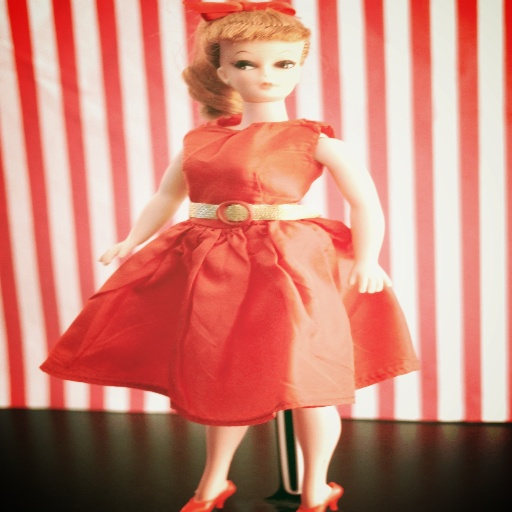hand: (349, 247, 399, 294), (96, 239, 136, 264)
